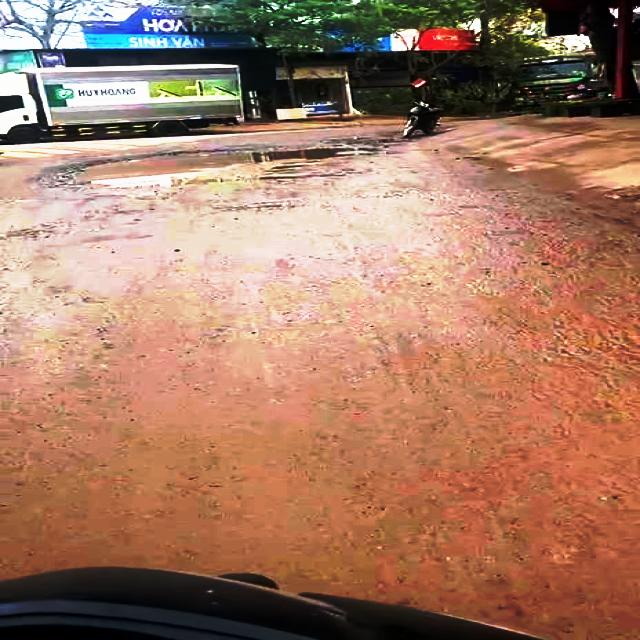pothole: (46, 142, 402, 195)
